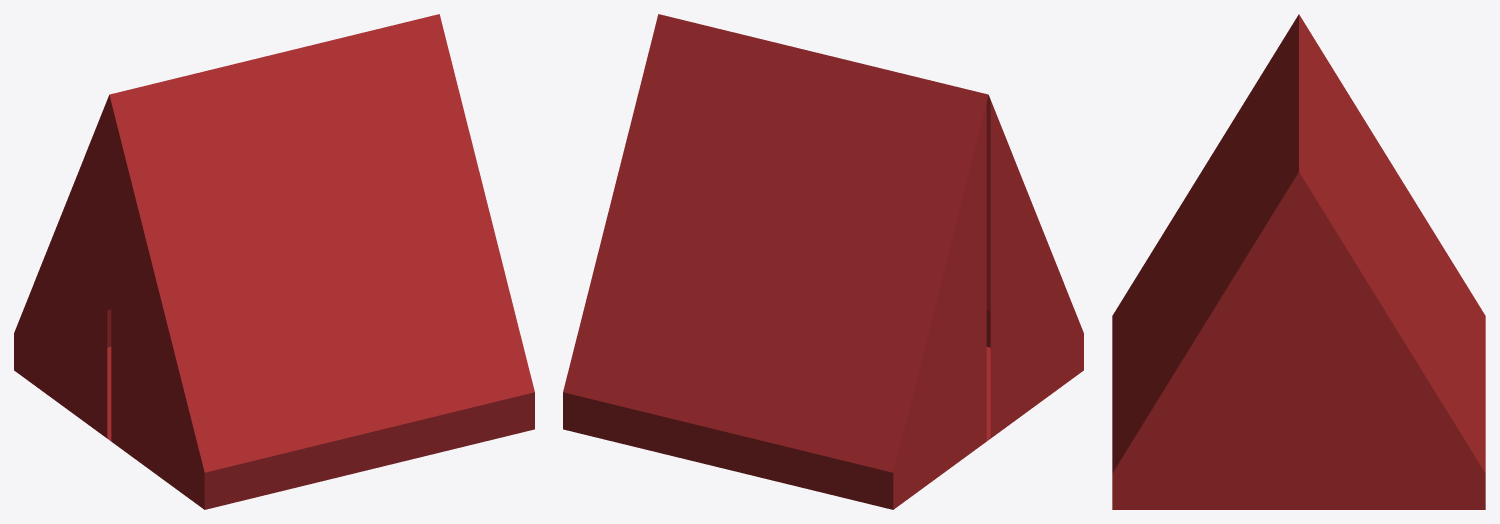
Rendered from tent.fbx.
The picture shows the model from 3 angles, left to right: view 1: azimuth 30°, elevation 25°; view 2: azimuth 150°, elevation 25°; view 3: azimuth 270°, elevation 25°; orthographic projection. The views are drawn at different scales.
Parts seen in each view (by area): view 1: Tent; view 2: Tent; view 3: Tent.
Part boxes in pixels (box(x1,y1,x2,y2)): Tent: box(14, 14, 534, 509); Tent: box(563, 14, 1083, 509); Tent: box(1112, 14, 1485, 509).
Size of the model in its own units: 2 by 2 by 2.
